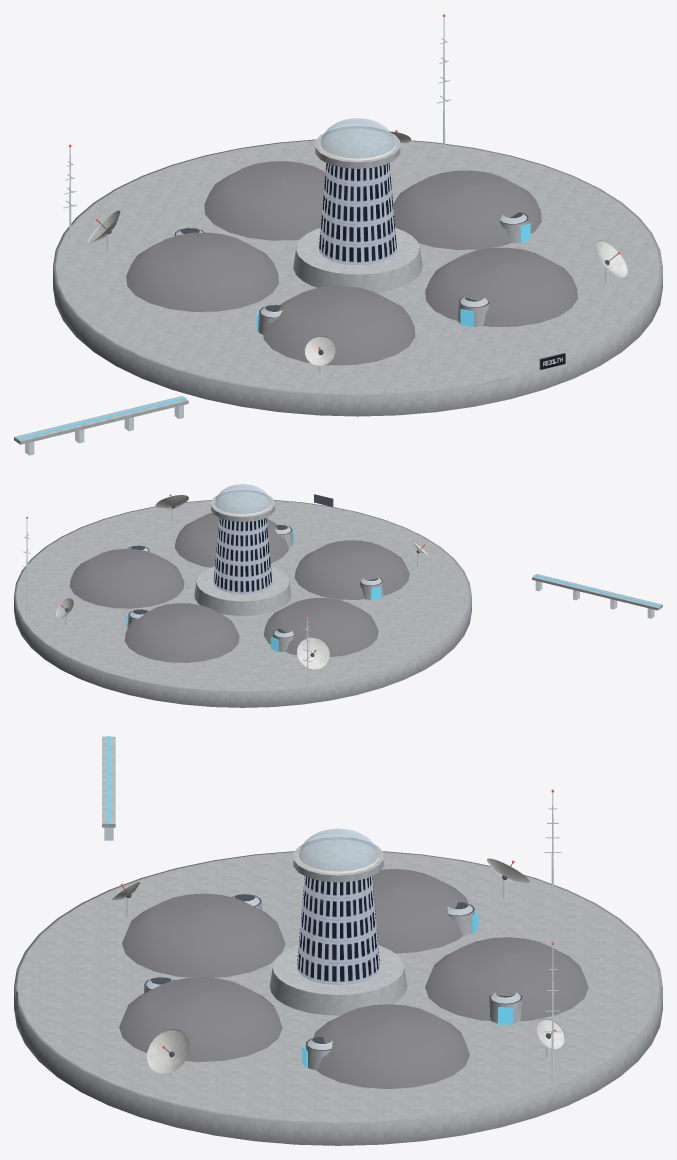
The model's file is moon_regolith_town.glb.
The picture shows the model from 3 angles, top to bottom: view 1: azimuth 30°, elevation 25°; view 2: azimuth 150°, elevation 25°; view 3: azimuth 270°, elevation 25°; orthographic projection. The views are drawn at different scales.
Parts seen in each view (by area): view 1: moon_regolith_town_LOD0; view 2: moon_regolith_town_LOD0; view 3: moon_regolith_town_LOD0.
Boxes of the visible parts, x1,y1,x2,y2 form: moon_regolith_town_LOD0: (14,14,662,455); moon_regolith_town_LOD0: (14,484,662,707); moon_regolith_town_LOD0: (14,736,662,1145).
Size of what is drawn, in the model's own units: 114 by 25.19 by 84.8.
4 materials, 3 textured.
